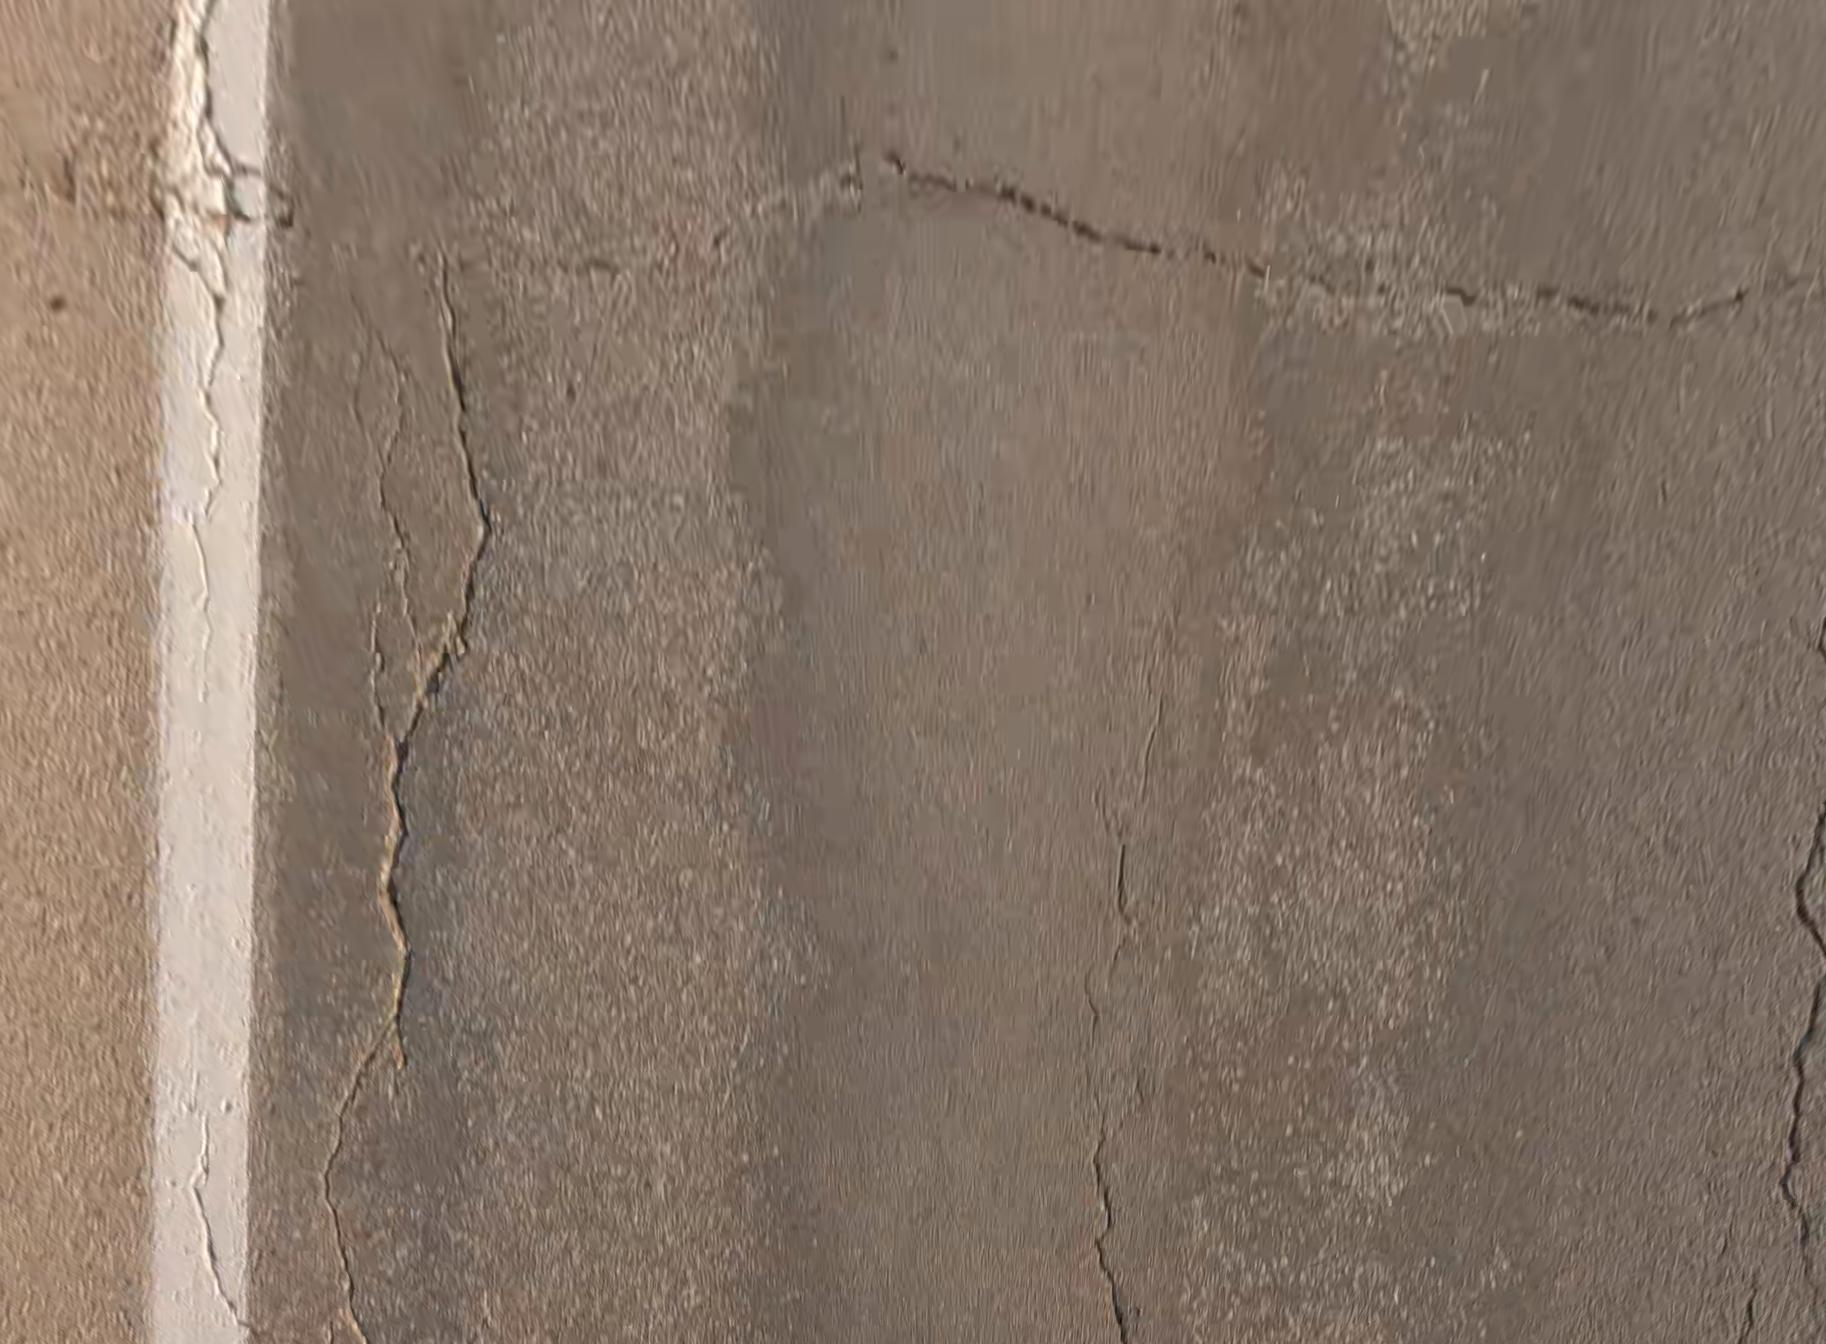pothole_patch_poor: (250, 1, 515, 1341)
